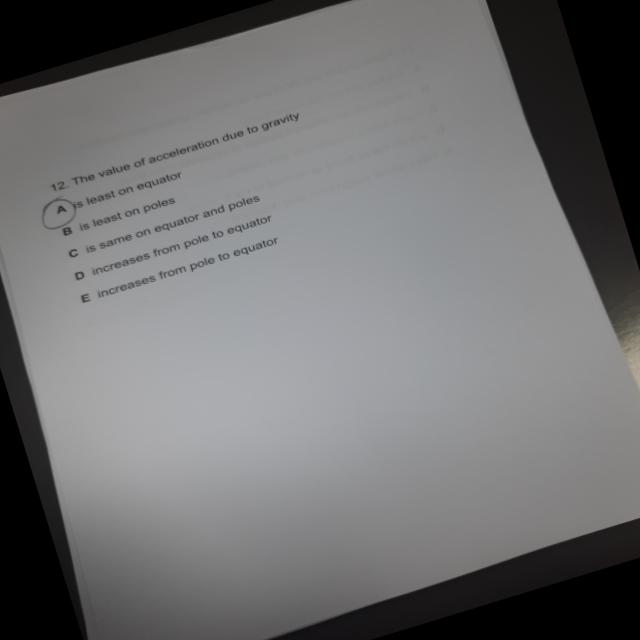A: (33, 193, 87, 238)
